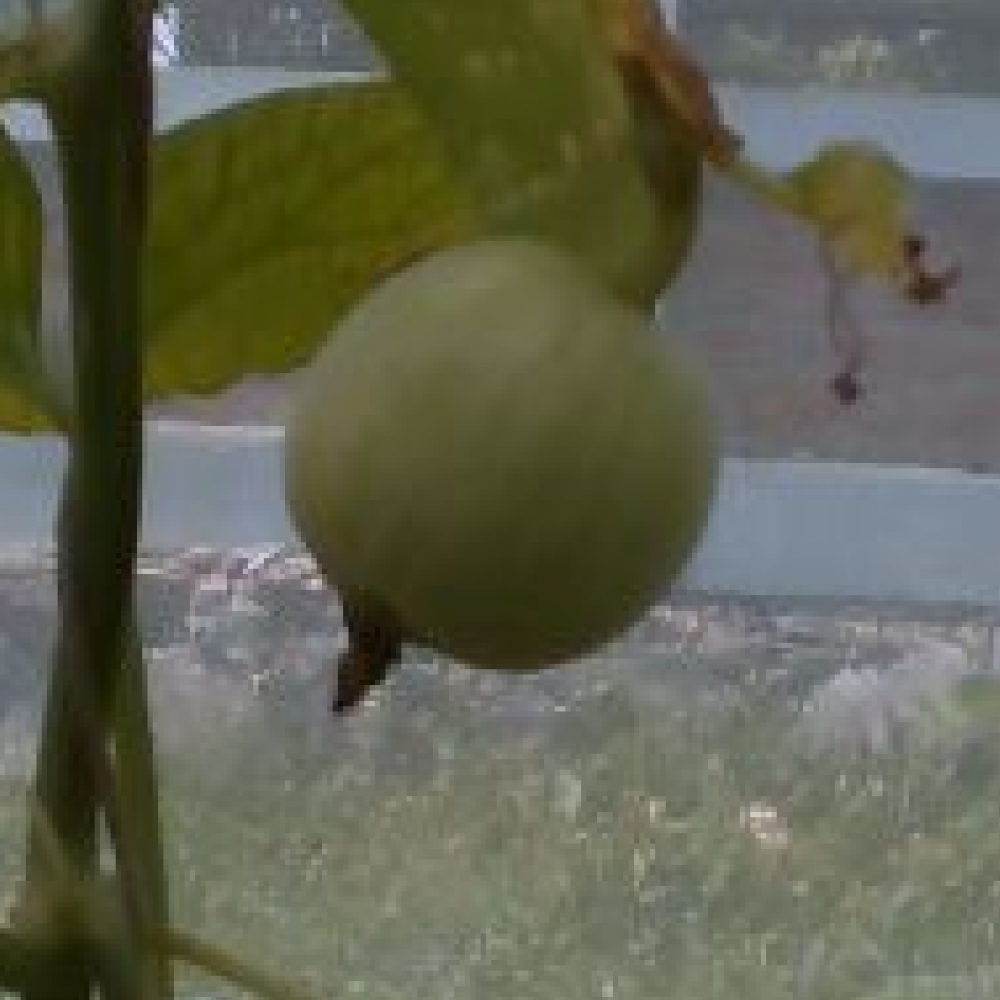melon: (278, 234, 732, 676)
